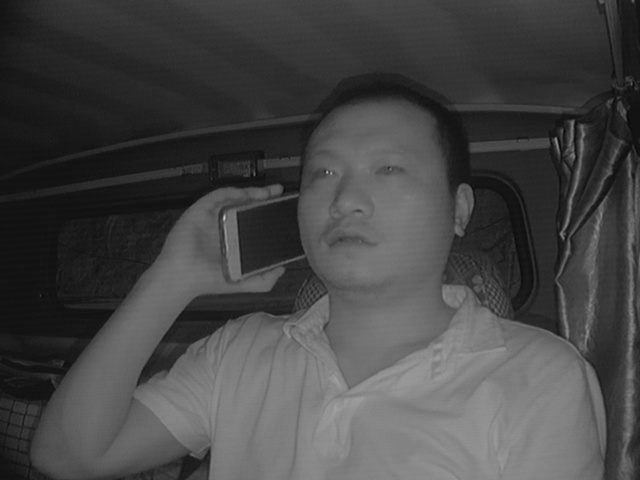hand: (174, 181, 289, 298)
